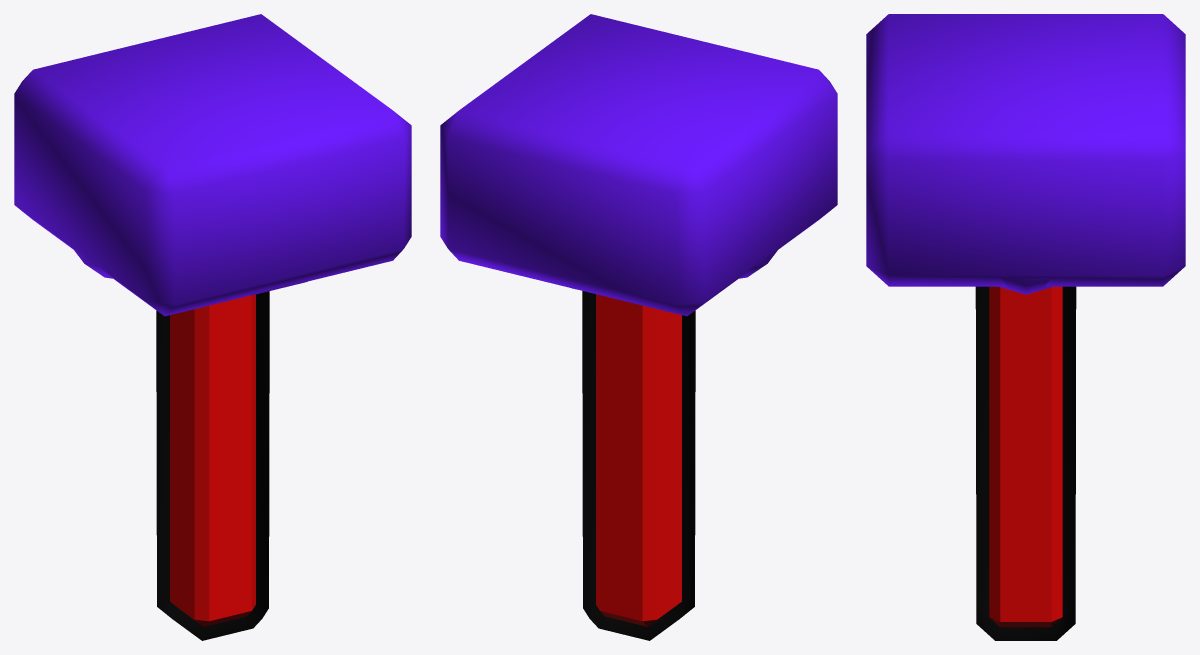
File: SM_Pins.FBX
3 views of the same model, side by side, from view 1: azimuth 30°, elevation 25°; view 2: azimuth 150°, elevation 25°; view 3: azimuth 270°, elevation 25° (orthographic). The views are drawn at different scales.
Parts seen in each view (by area): view 1: Pin_Top_Square, Pin_Base_1; view 2: Pin_Top_Square, Pin_Base_1; view 3: Pin_Top_Square, Pin_Base_1, Pin_Top_Cylinder.
Boxes of the visible parts, x1=… form: Pin_Top_Square: x1=14, y1=14, x2=411, y2=316; Pin_Base_1: x1=156, y1=291, x2=269, y2=640; Pin_Top_Square: x1=440, y1=14, x2=837, y2=316; Pin_Base_1: x1=582, y1=291, x2=695, y2=640; Pin_Top_Square: x1=866, y1=14, x2=1185, y2=286; Pin_Base_1: x1=975, y1=286, x2=1076, y2=640; Pin_Top_Cylinder: x1=999, y1=278, x2=1052, y2=294.
Bounding box in the file's own units: 17.13 × 32.97 × 17.13.
